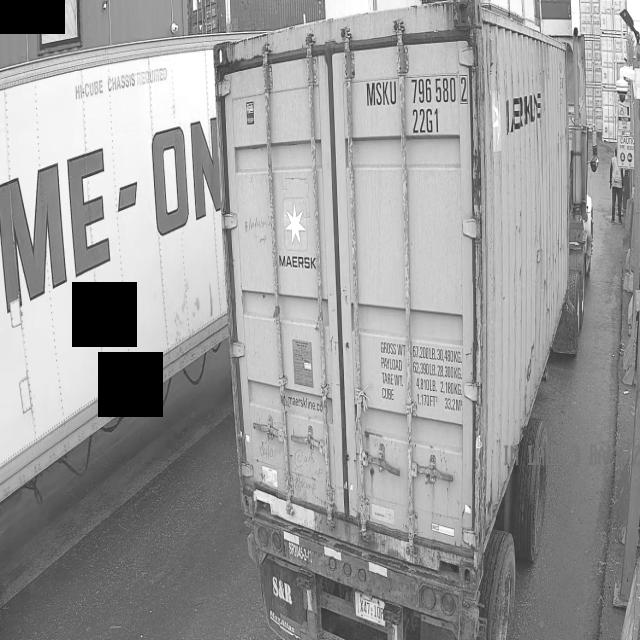container_company_logo: (277, 197, 314, 278)
container_number: (365, 77, 470, 138)
driver: (606, 146, 620, 222)
license_plate: (351, 594, 389, 626)
other_container_info: (377, 333, 463, 416)
truck_with_container: (216, 0, 598, 640), (0, 57, 228, 640)
